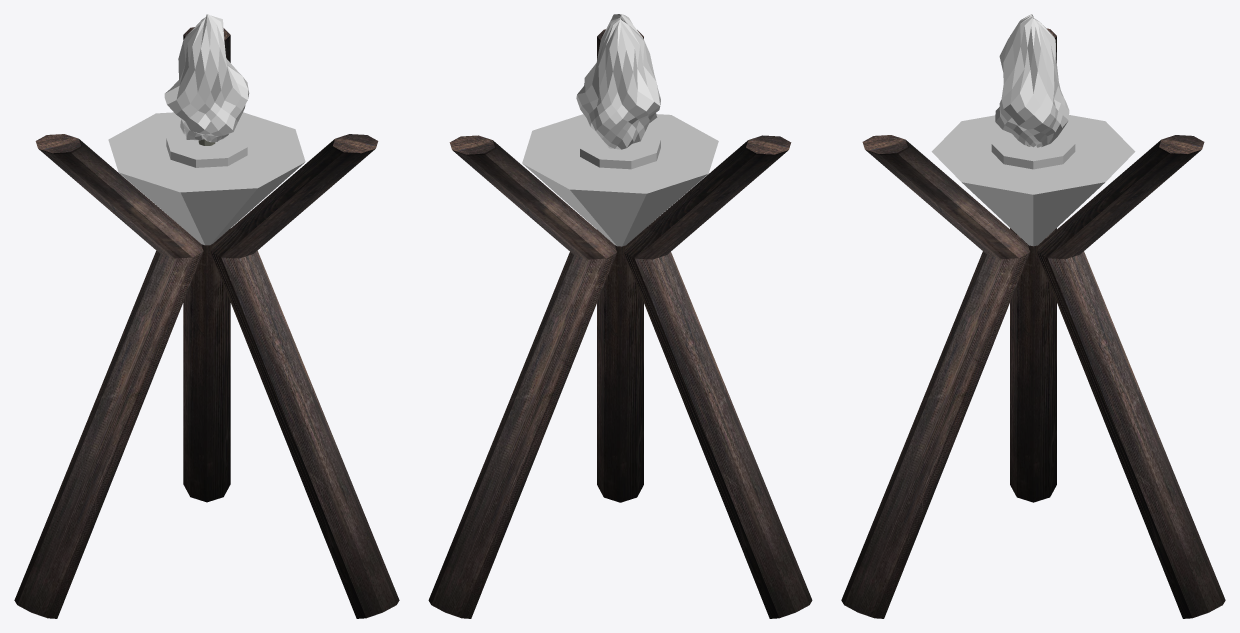
File: Torche1.fbx
3 renders of one model, left to right at view 1: azimuth 30°, elevation 25°; view 2: azimuth 150°, elevation 25°; view 3: azimuth 270°, elevation 25°, orthographic.
Parts seen in each view (by area): view 1: Cylinder, Cylinder.001, Sphere; view 2: Cylinder, Cylinder.001, Sphere; view 3: Cylinder, Cylinder.001, Sphere.
Boxes of the visible parts, x1,y1,x2,y2 form: Cylinder: (14,27,399,618); Cylinder.001: (108,112,305,245); Sphere: (164,14,249,142); Cylinder: (428,29,812,618); Cylinder.001: (522,114,718,246); Sphere: (576,14,660,149); Cylinder: (841,28,1225,618); Cylinder.001: (931,115,1135,246); Sphere: (995,14,1069,147).
Bounding box in the file's own units: 1441 × 2637 × 1633.
